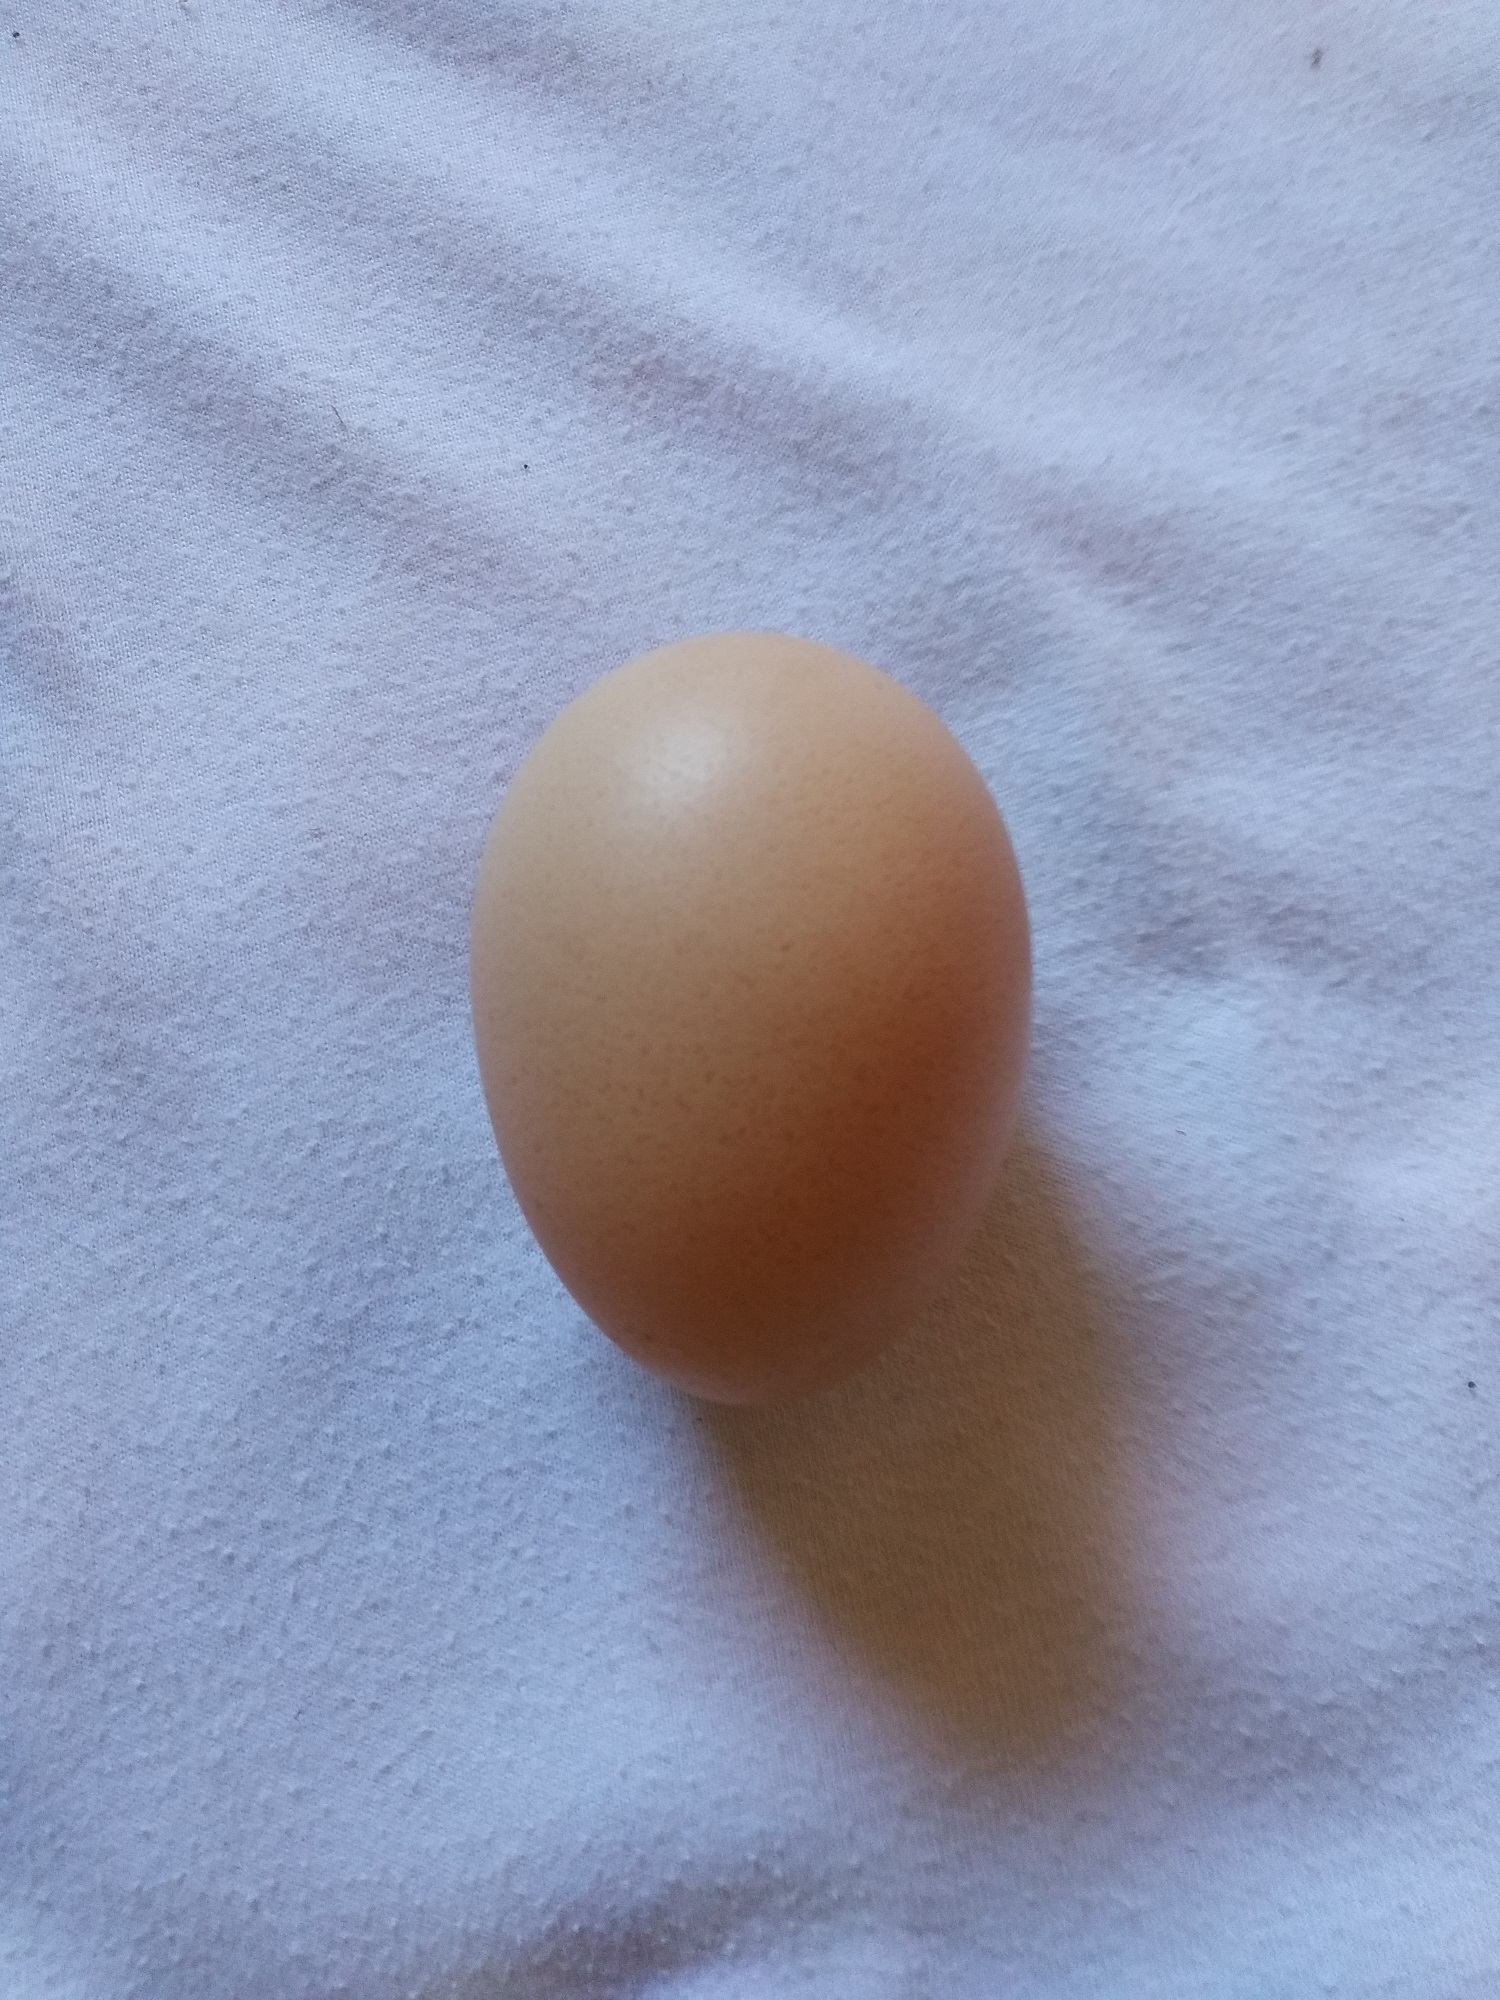Female: (455, 617, 1048, 1427)
